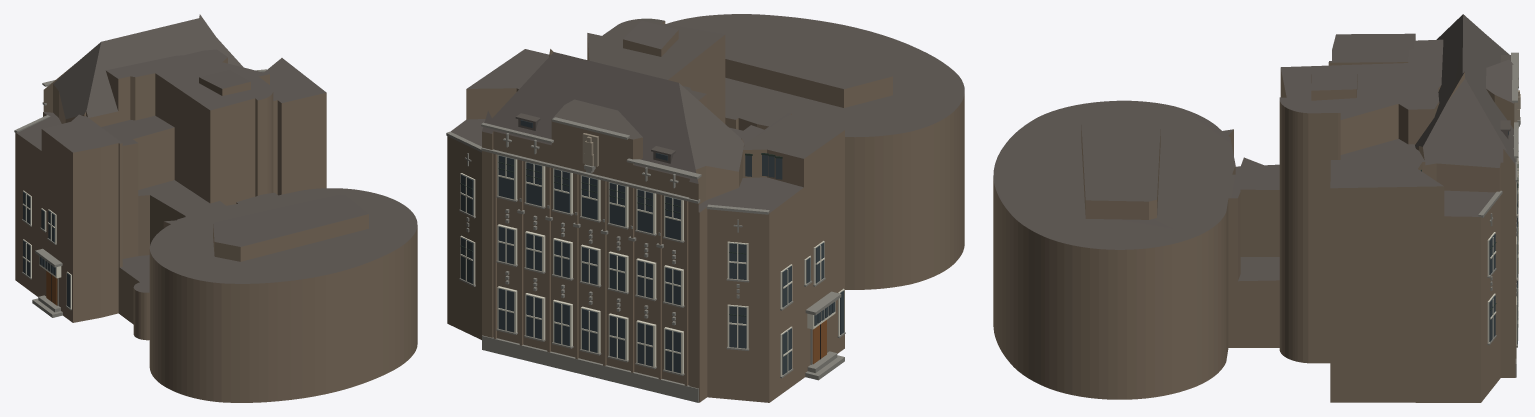
The model's file is uva-binnengasthuisstraat-9.glb.
3 views of the same model, side by side, from view 1: azimuth 30°, elevation 25°; view 2: azimuth 150°, elevation 25°; view 3: azimuth 270°, elevation 25° (orthographic). The views are drawn at different scales.
Parts seen in each view (by area): view 1: uva-binnengasthuisstraat-9; view 2: uva-binnengasthuisstraat-9; view 3: uva-binnengasthuisstraat-9.
Boxes of the visible parts, left/top/right/bottom form: uva-binnengasthuisstraat-9: left=14, top=14, right=417, bottom=402; uva-binnengasthuisstraat-9: left=446, top=14, right=964, bottom=402; uva-binnengasthuisstraat-9: left=993, top=14, right=1520, bottom=402.
Bounding box in the file's own units: 25.19 × 20.88 × 34.84.
